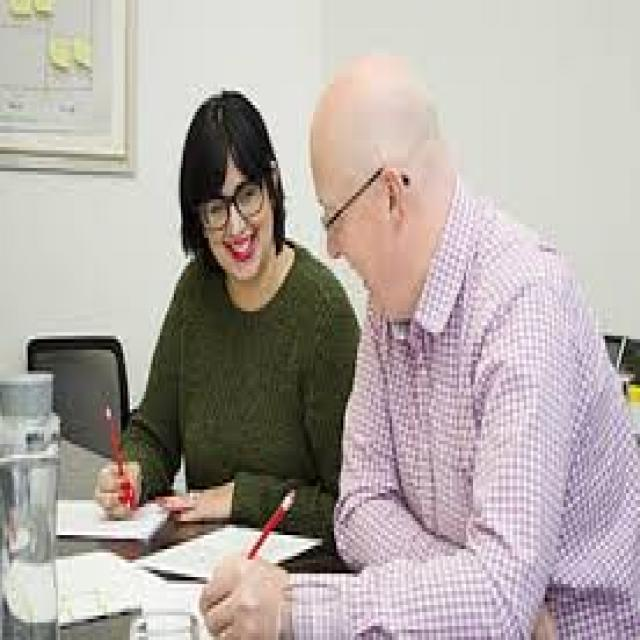Glasses: (316, 157, 410, 245), (195, 178, 271, 238)
